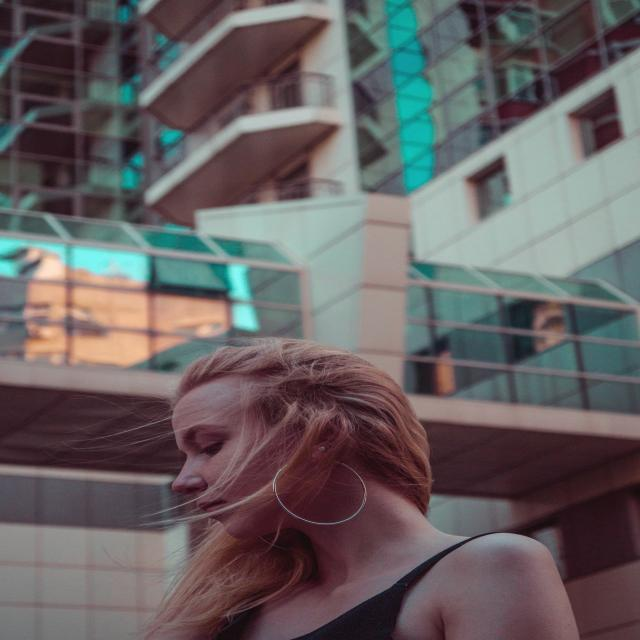adult: (171, 342, 566, 640)
